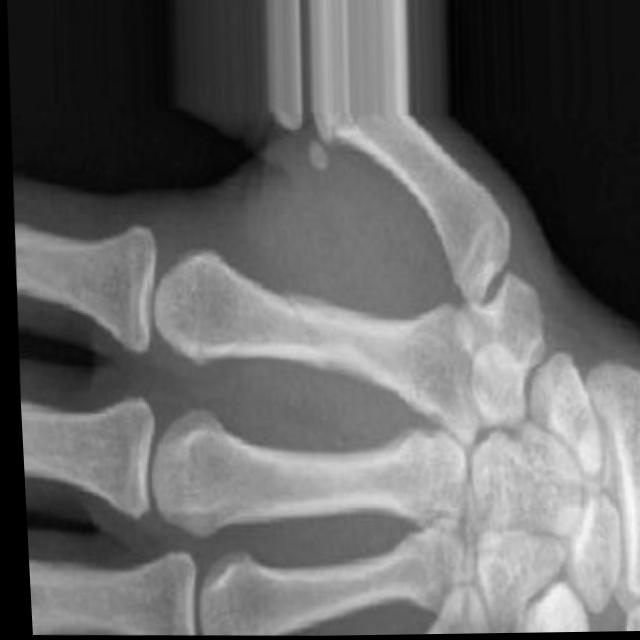fracture: (274, 275, 328, 372)
